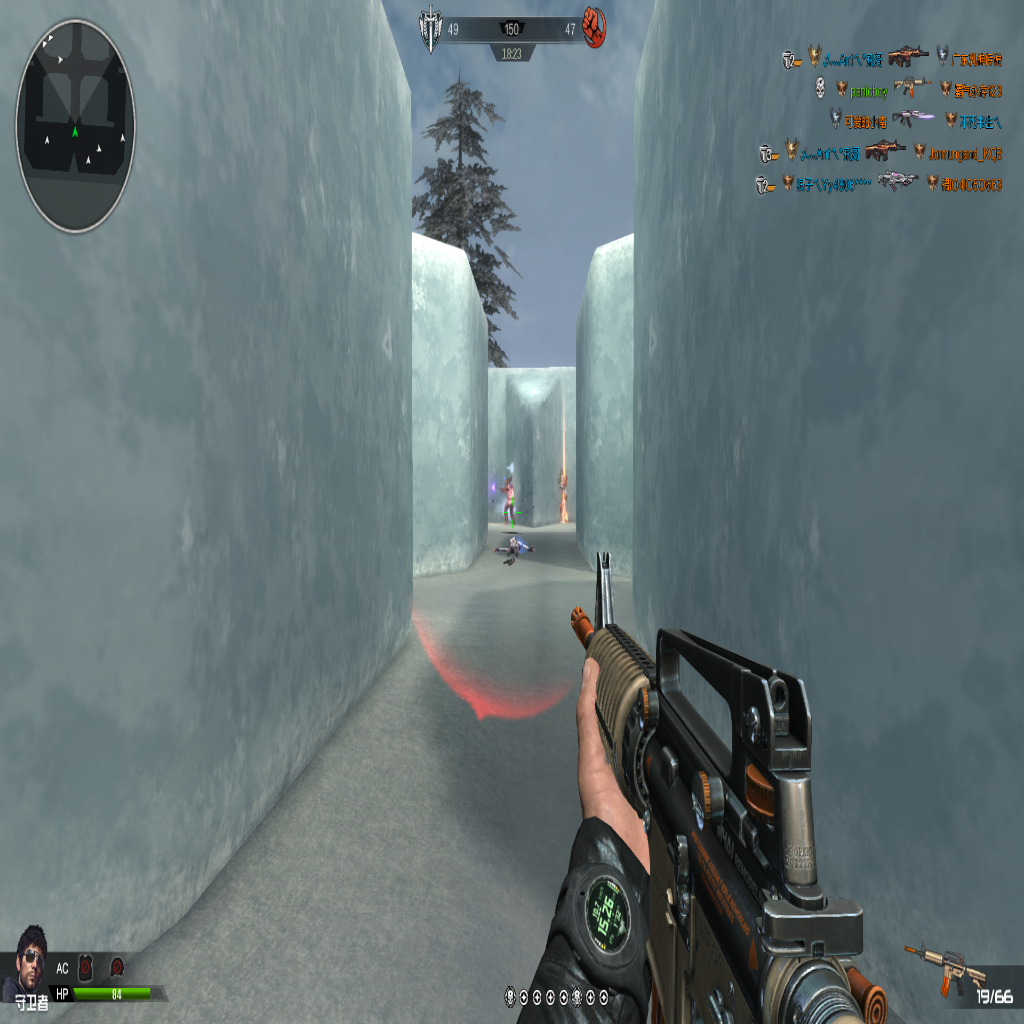tt: (501, 474, 516, 528)
